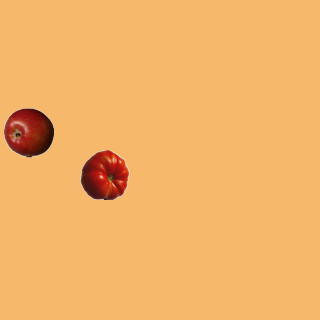Apple Braeburn: (3, 107, 53, 157)
Tomato 3: (79, 149, 129, 199)
